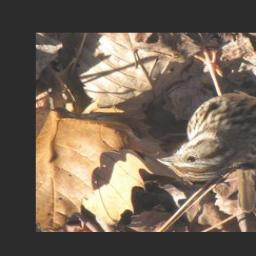Sparrow: (153, 40, 256, 183)
